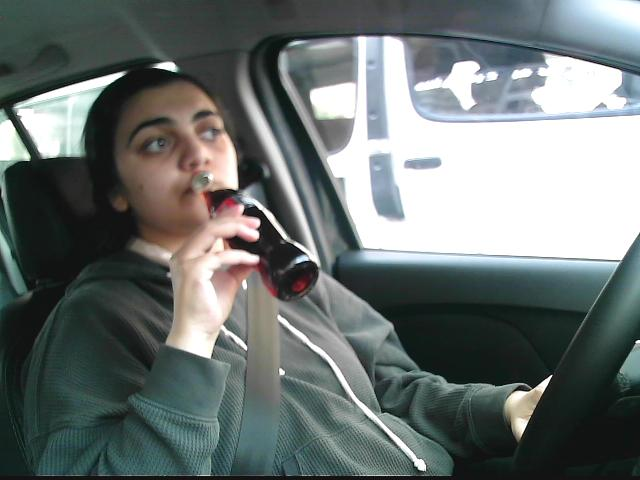Drinking: (103, 83, 318, 301)
